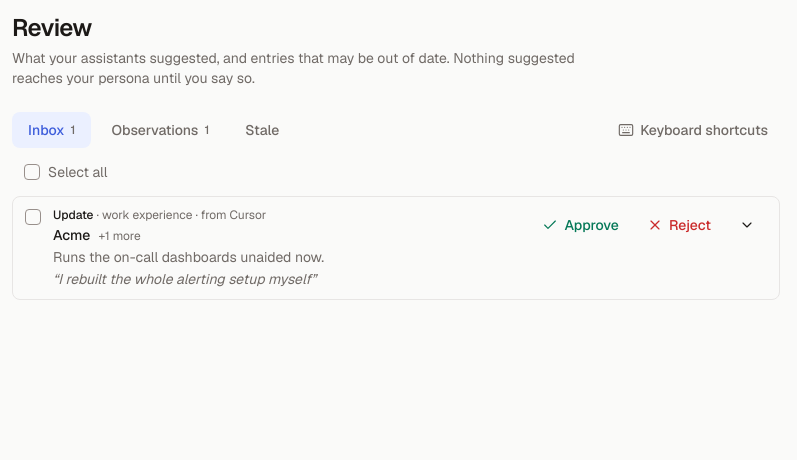
Test: ProposalsPanel › reads snake_case keys as words
expect the text "Update · work experience · from Cursor" is shown: met, box x1=53 y1=207 x2=266 y2=223
Click the button named "details for ". click: (747, 225)
box: x1=727 y1=207 x2=767 y2=243
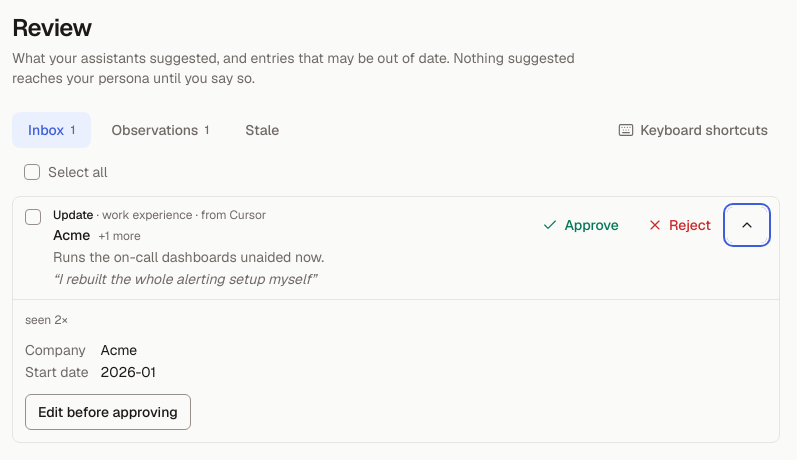
expect the text "Start date" is shown: met, box x1=25 y1=362 x2=88 y2=382
